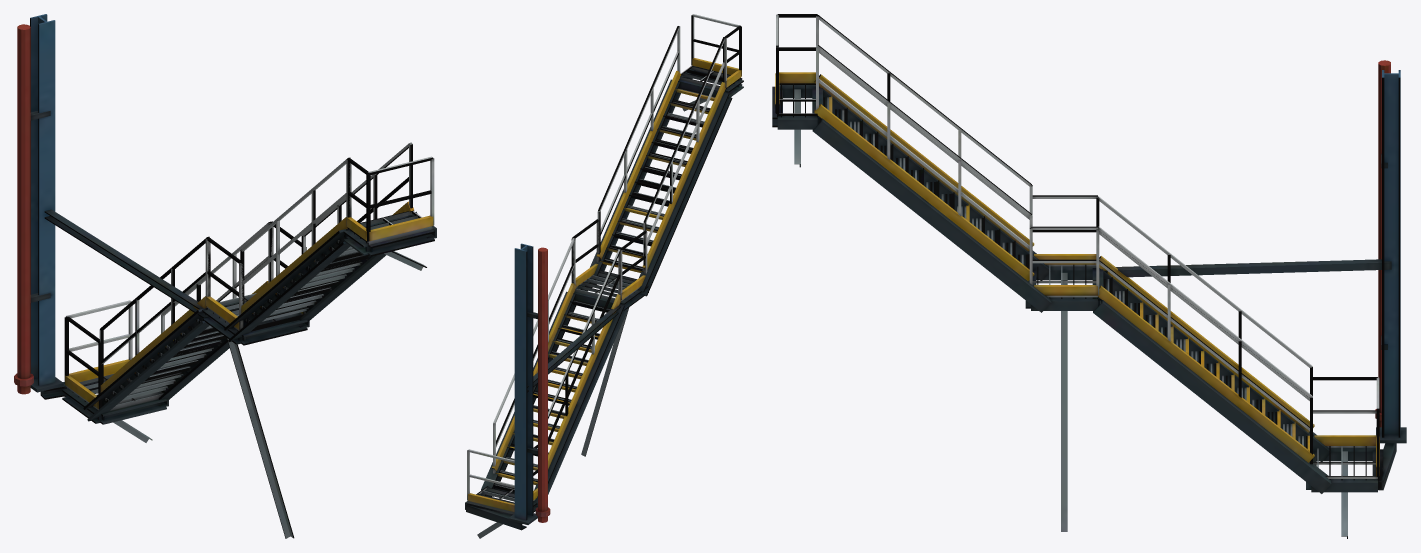
The model's file is access_frstair_v5.glb.
The picture shows the model from 3 angles, left to right: view 1: azimuth 30°, elevation 25°; view 2: azimuth 150°, elevation 25°; view 3: azimuth 270°, elevation 25°; orthographic projection. The views are drawn at different scales.
Visible parts, largest first — view 1: body; view 2: body; view 3: body.
Boxes of the visible parts, x1,y1,x2,y2 form: body: [14, 14, 436, 538]; body: [465, 14, 743, 538]; body: [772, 14, 1406, 538].
Size of the model in its own units: 2.05 by 8.16 by 9.51.
1 material, 1 textured.
